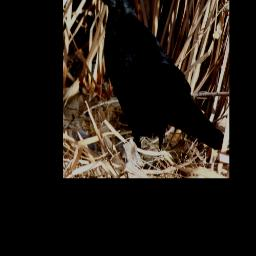Crow: (99, 0, 225, 152)
